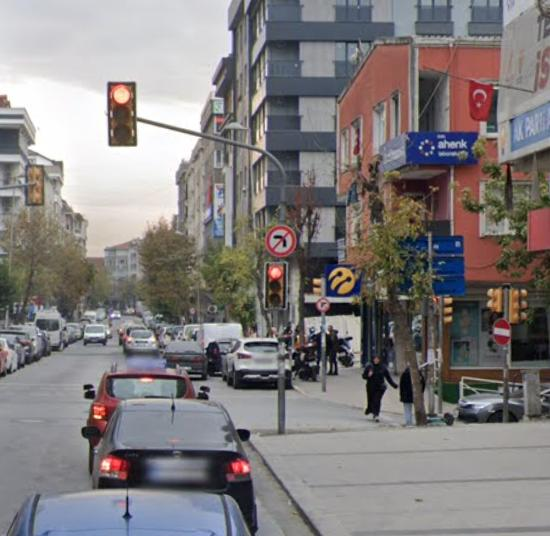leftturnsareforbidden: (268, 226, 295, 255)
redlight: (106, 81, 140, 147)
